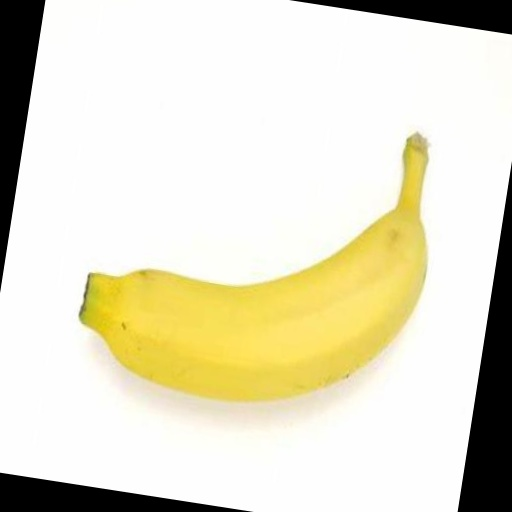fruit: (80, 134, 427, 400)
